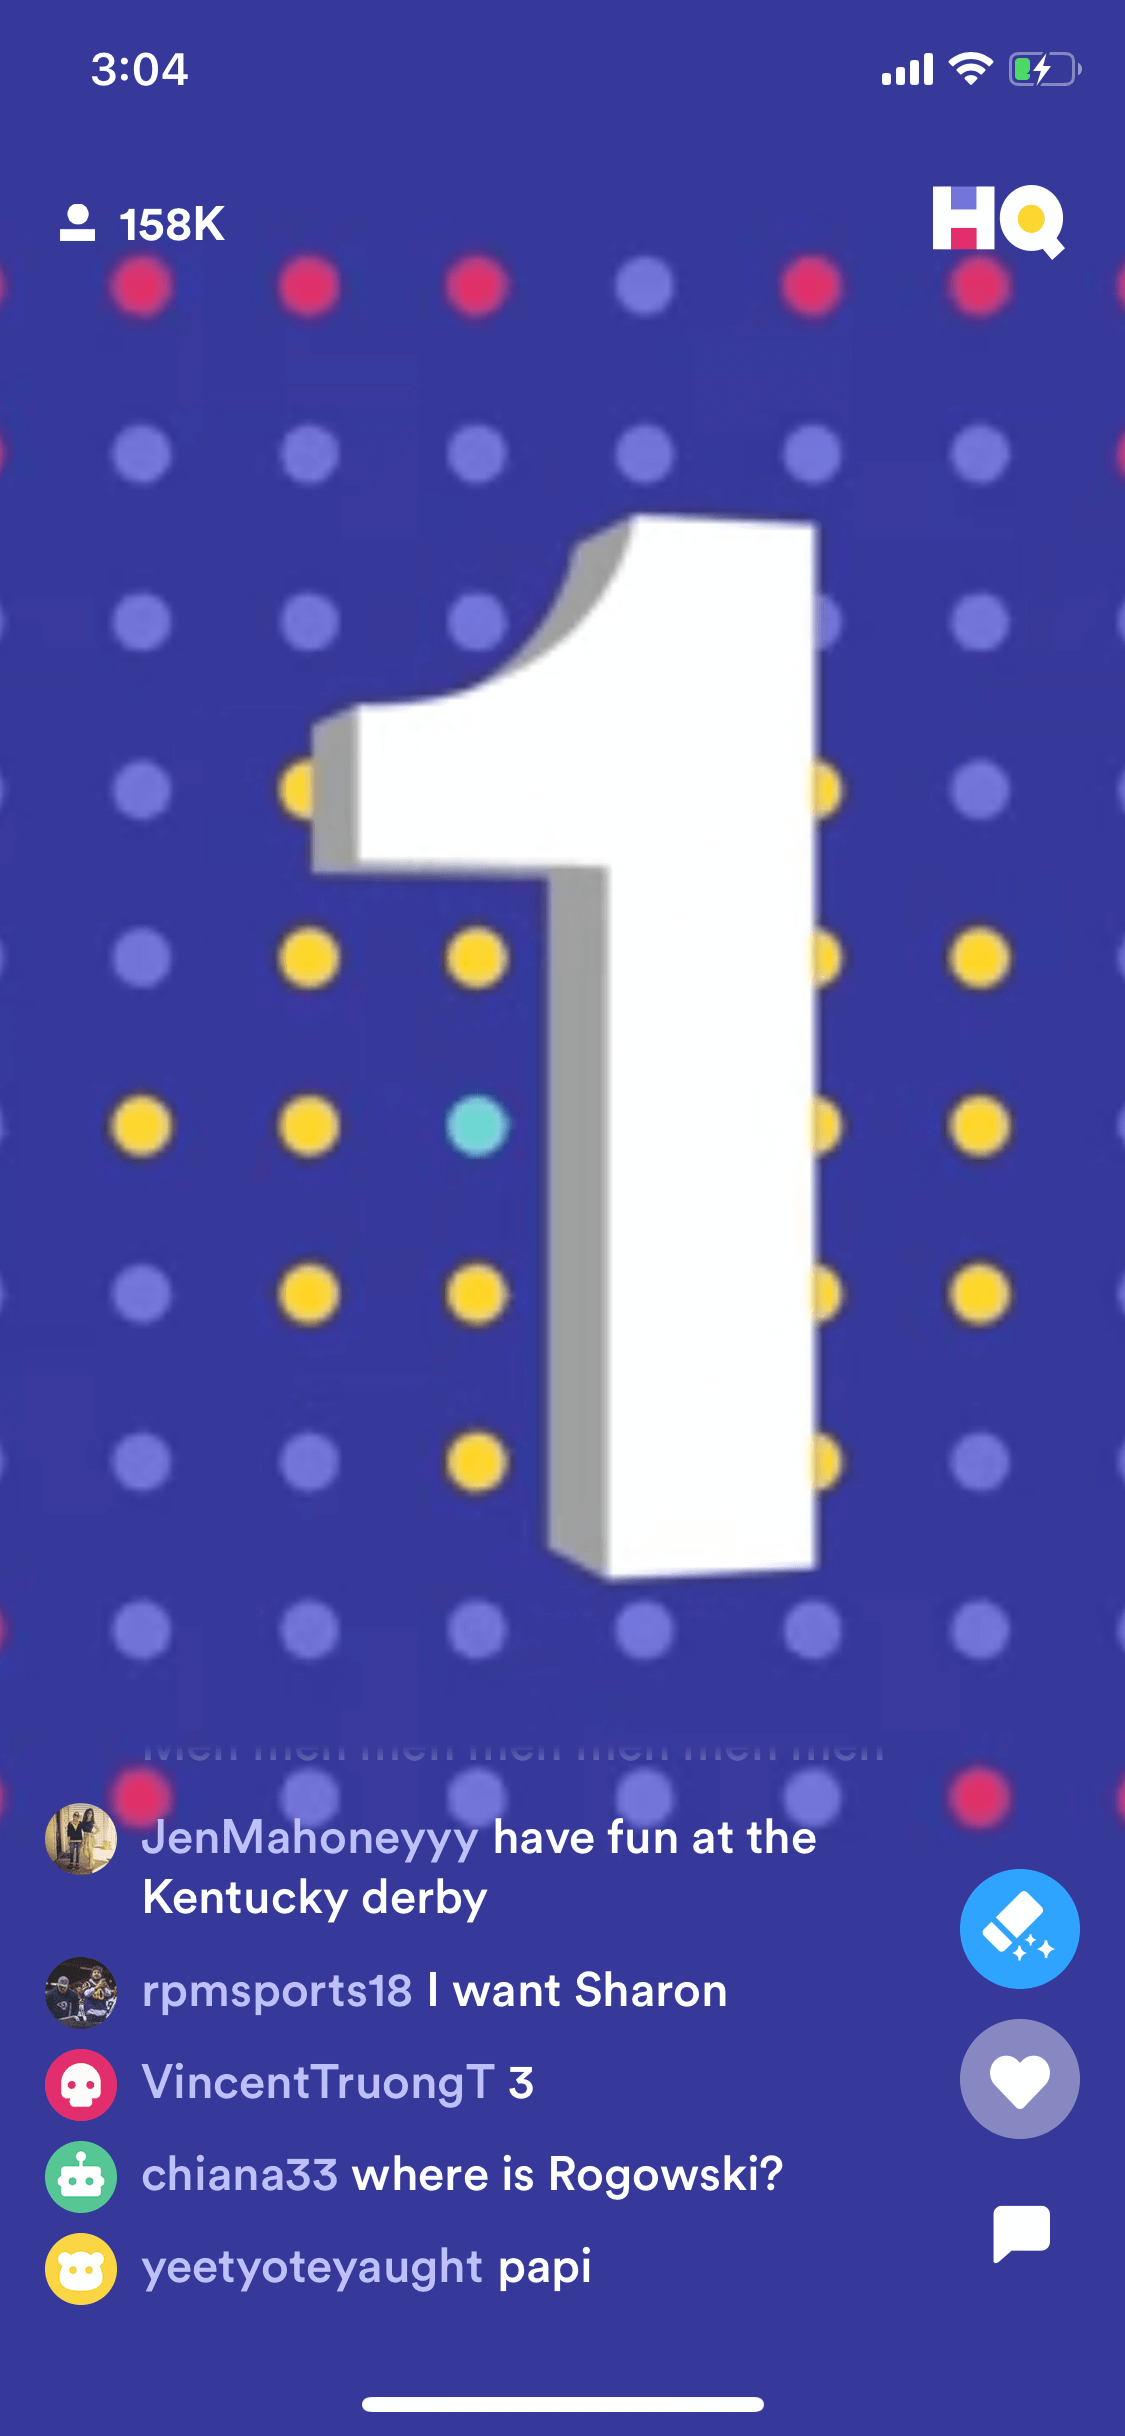FAB (Floating Action Button): (943, 2009, 1089, 2149), (946, 2166, 1091, 2304), (948, 1863, 1092, 1995)
